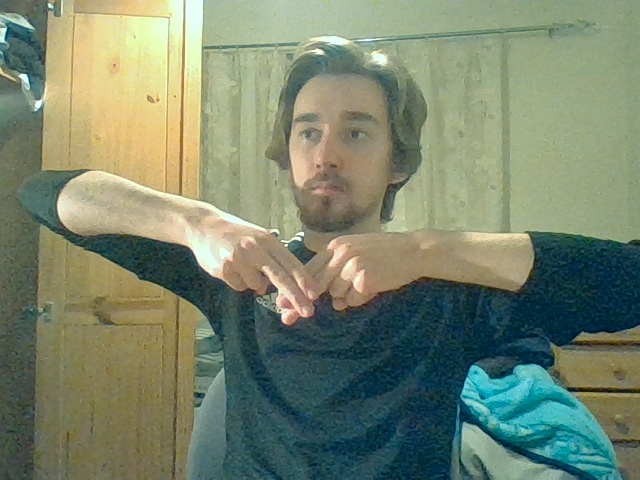father: (259, 225, 361, 326)
